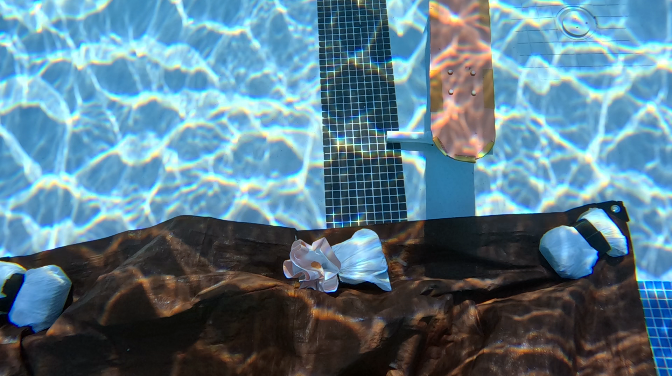pathmarker: (429, 0, 494, 161)
sandbag: (0, 202, 655, 375)
